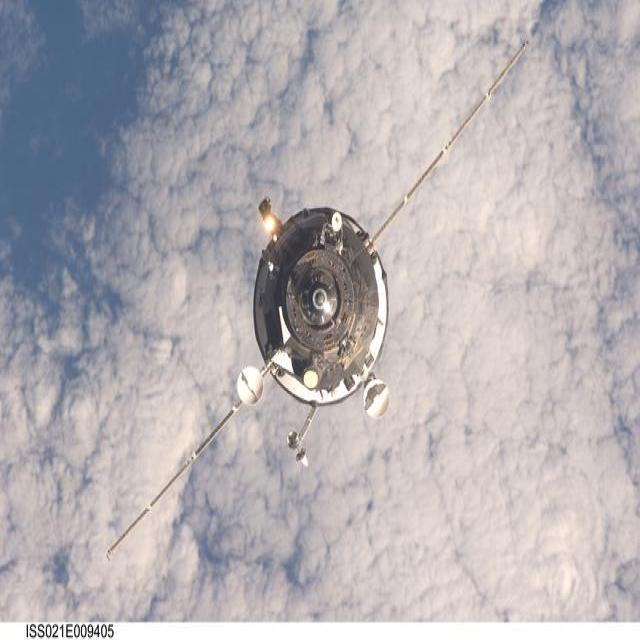medium_debris: (108, 45, 526, 556)
